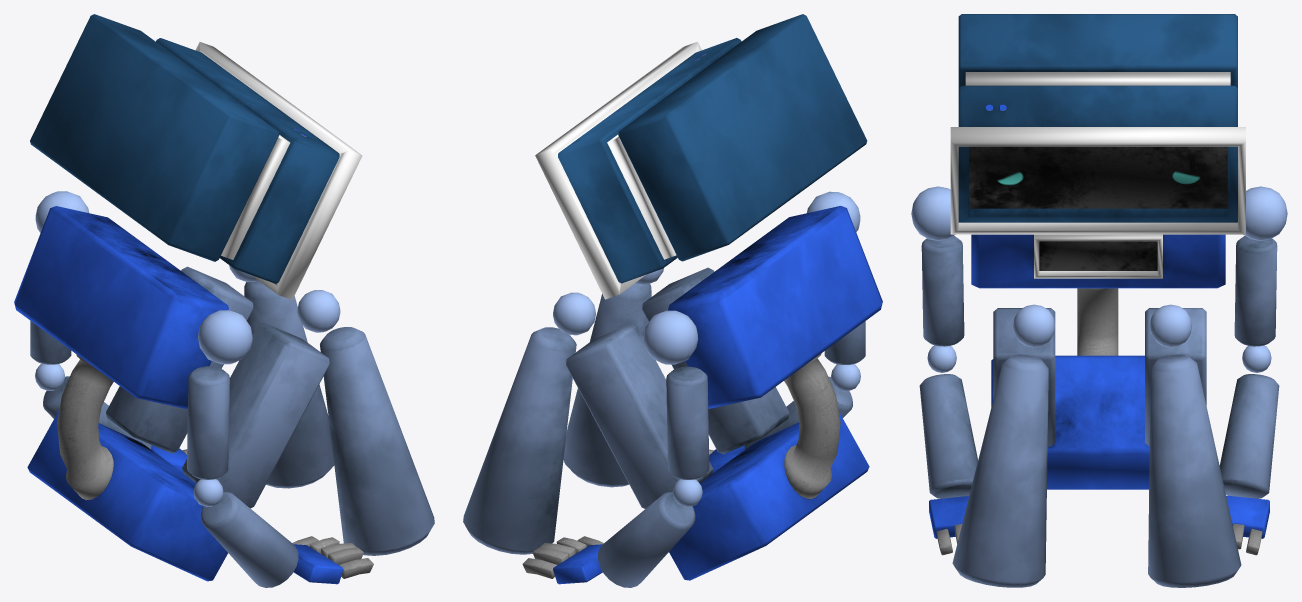
The model's file is robotHomeless.gltf.
The picture shows the model from 3 angles, left to right: view 1: azimuth 30°, elevation 25°; view 2: azimuth 150°, elevation 25°; view 3: azimuth 270°, elevation 25°; orthographic projection.
Parts seen in each view (by area): view 1: robotHomeless; view 2: robotHomeless; view 3: robotHomeless.
Part boxes in pixels (box(x1,y1,x2,y2)): robotHomeless: box(14, 14, 434, 587); robotHomeless: box(463, 14, 882, 587); robotHomeless: box(911, 14, 1287, 587).
Size of the model in its own units: 4.5 by 6.54 by 4.61.
Materials: 8 (7 with a texture image).
